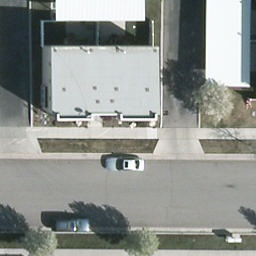car: (50, 220, 94, 234), (103, 158, 147, 170)
